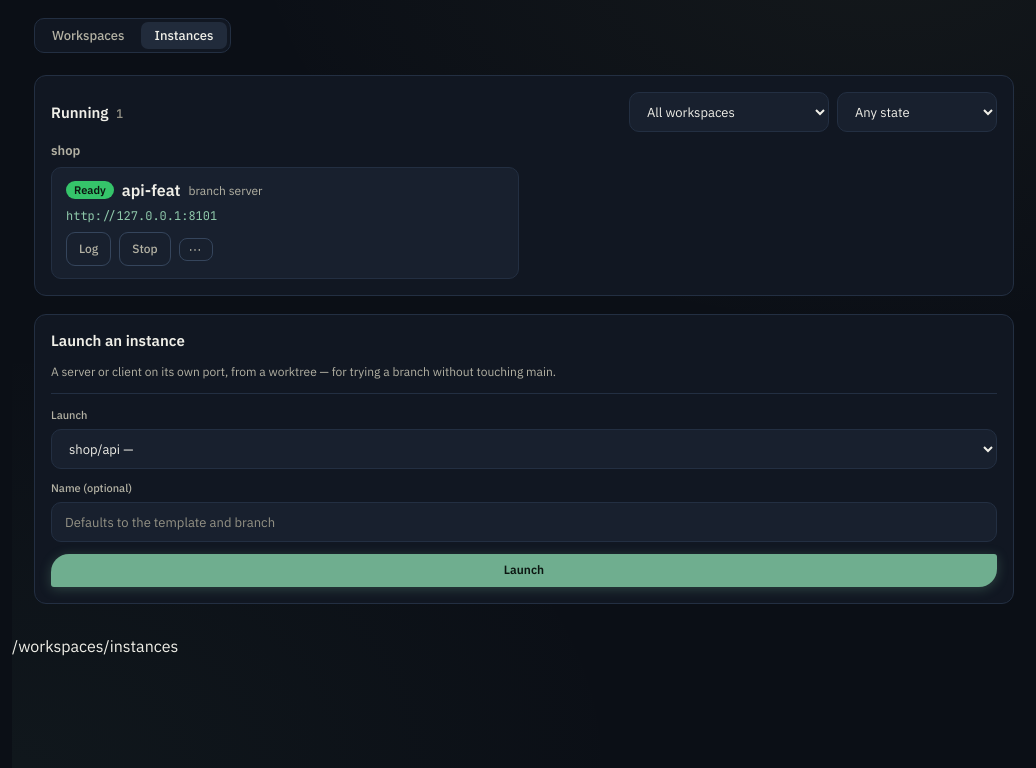
says so when no instance matches the filters
Check: the heading "shop" is shown, box [51, 142, 80, 159]
Select "exited" in the 2nd dropdown named "State" at [917, 112], box [837, 92, 997, 132]
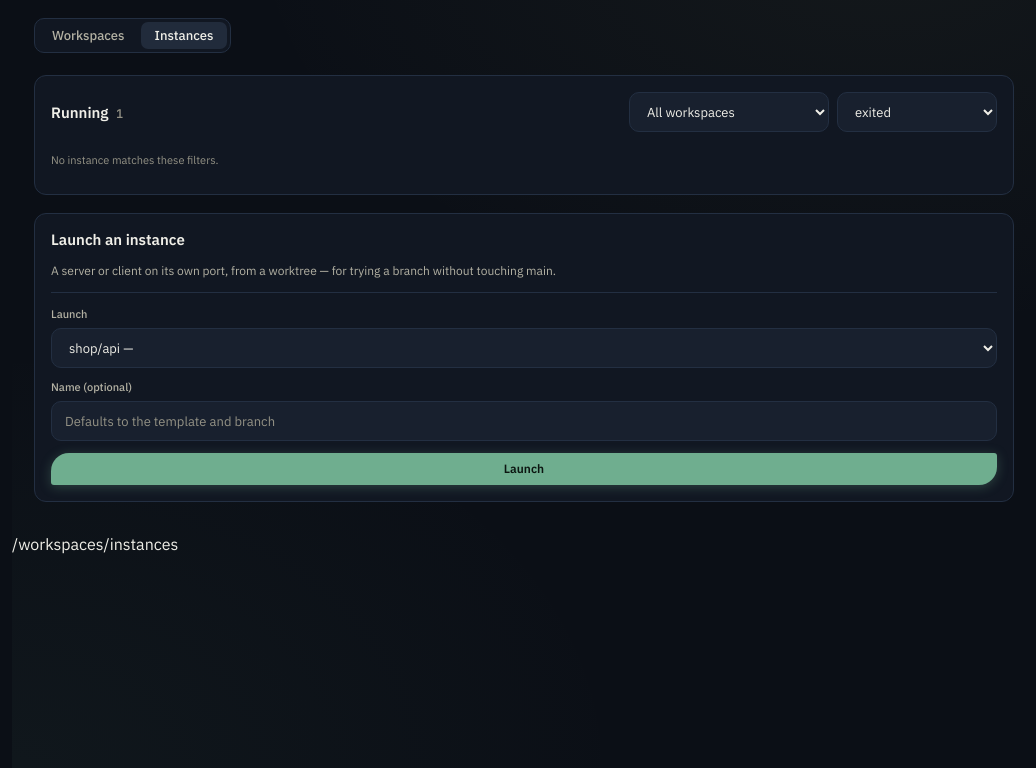
Check: the text "No instance matches these filters." is shown, box [51, 153, 218, 167]
